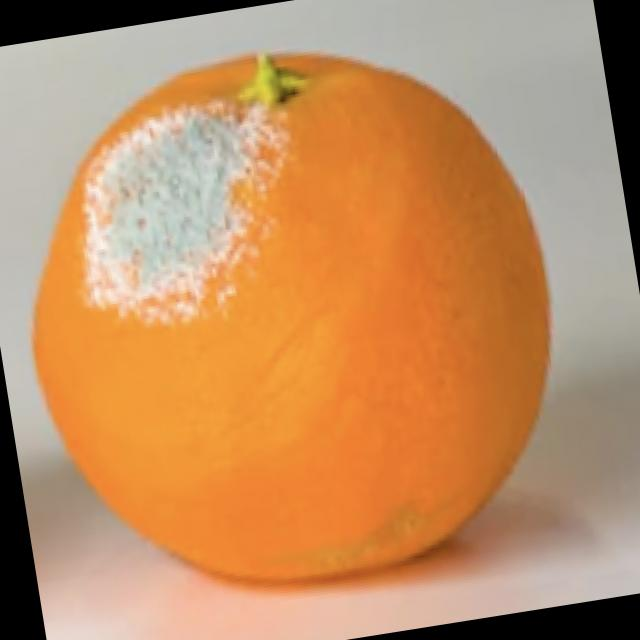rotten-orange: (0, 8, 590, 625)
